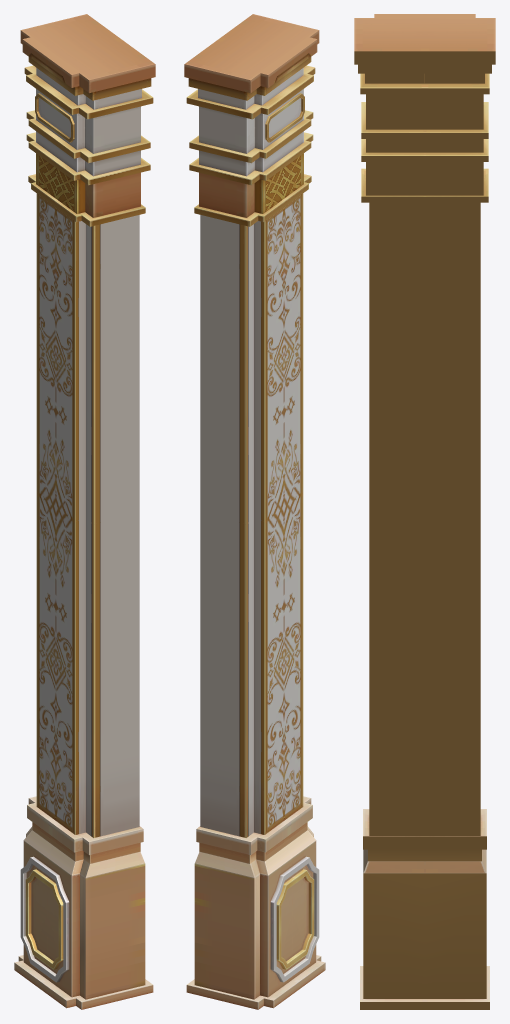
File: my_trinityclassroom_01_pillar_02.glb
The picture shows the model from 3 angles, left to right: view 1: azimuth 30°, elevation 25°; view 2: azimuth 150°, elevation 25°; view 3: azimuth 270°, elevation 25°; orthographic projection. The views are drawn at different scales.
Parts seen in each view (by area): view 1: my_trinityclassroom_01_pillar_02; view 2: my_trinityclassroom_01_pillar_02; view 3: my_trinityclassroom_01_pillar_02.
Boxes of the visible parts, bbox=[...] form: my_trinityclassroom_01_pillar_02: bbox=[14, 14, 155, 1009]; my_trinityclassroom_01_pillar_02: bbox=[184, 14, 325, 1009]; my_trinityclassroom_01_pillar_02: bbox=[354, 14, 495, 1009].
Size of the model in its own units: 0.0041 by 0.0447 by 0.00597.
1 material, 1 textured.
